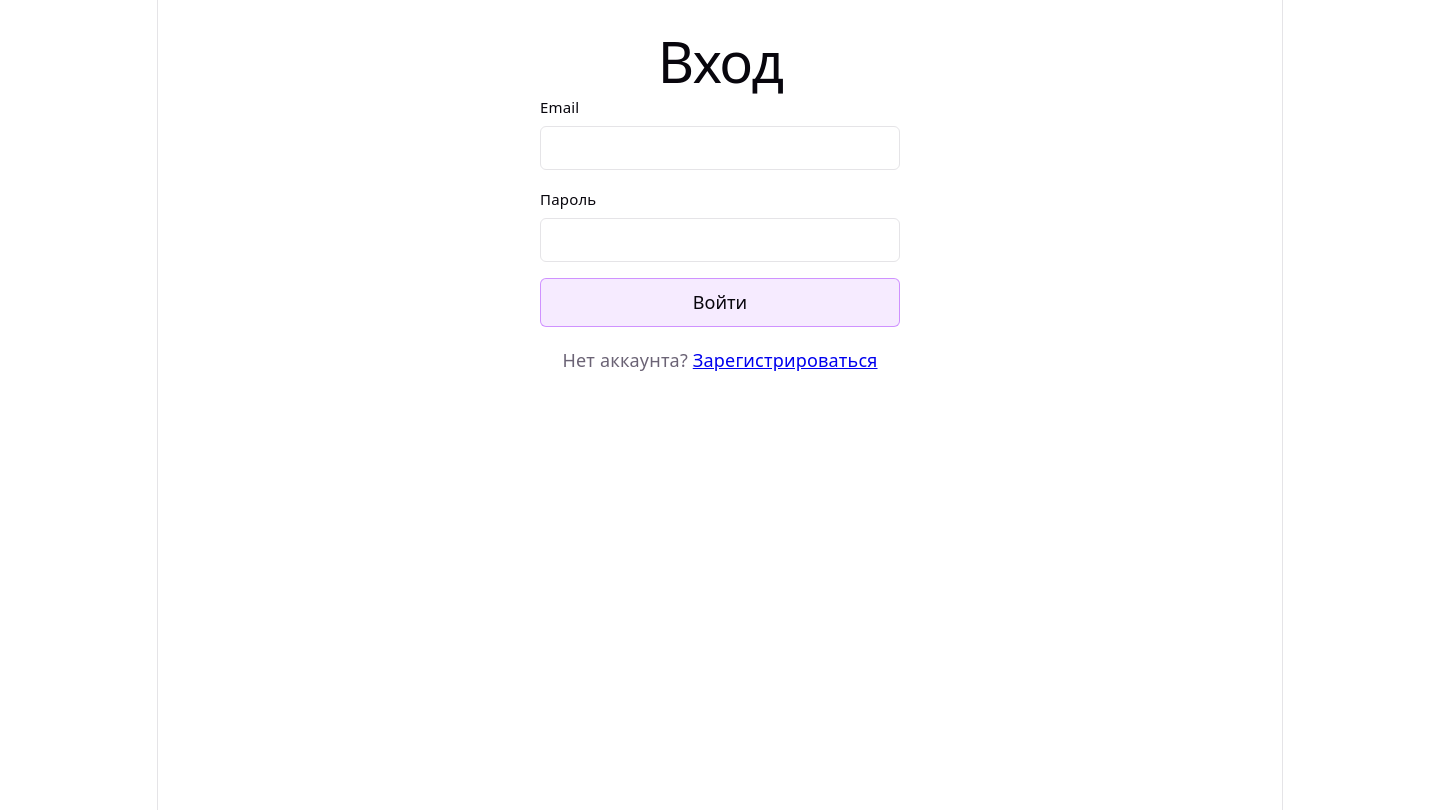
App › переключает пользователя между входом и регистрацией
Click the link "Зарегистрироваться": (785, 360) left=693, top=348, right=878, bottom=372
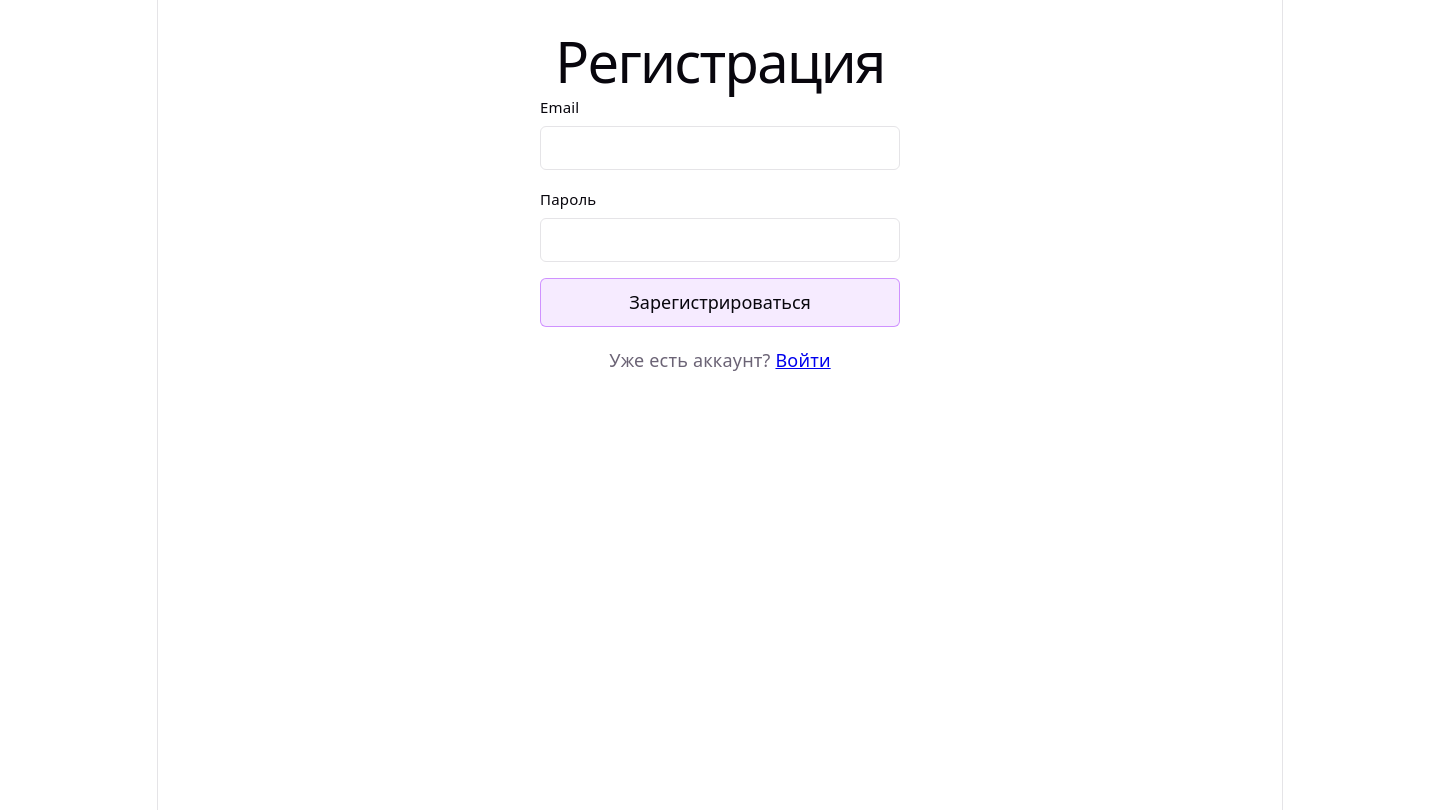
Result: the heading "Регистрация" is shown at left=555, top=48, right=885, bottom=74
Click the link "Войти": (803, 360) left=776, top=348, right=831, bottom=372
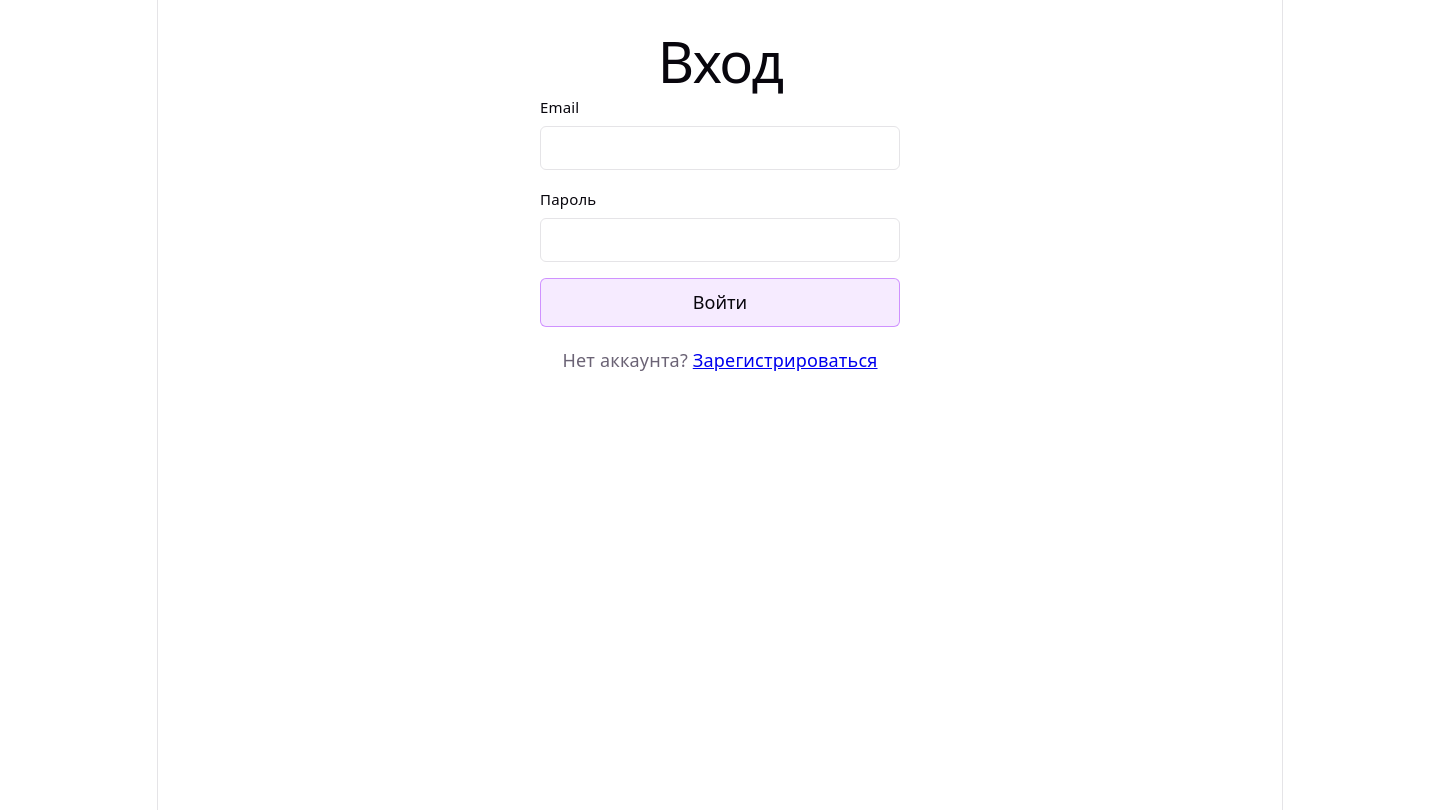
Result: the heading "Вход" is shown at left=658, top=48, right=782, bottom=74
